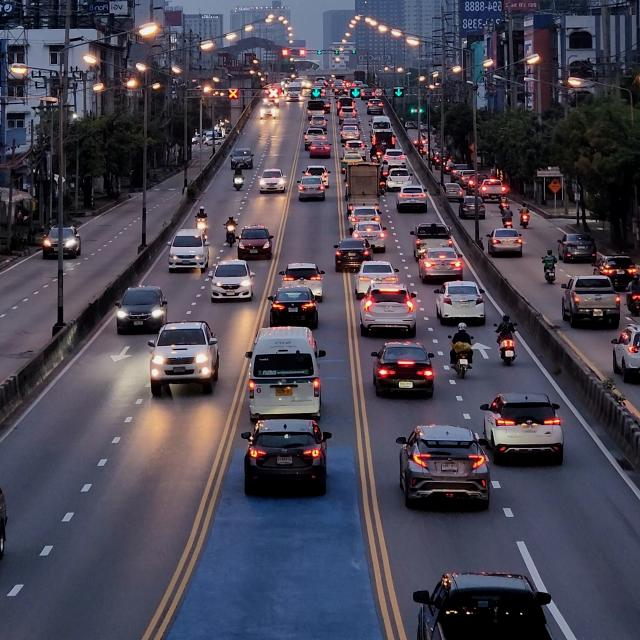Vehicle: (238, 324, 330, 426), (392, 421, 489, 504), (240, 419, 329, 496), (144, 318, 219, 398), (478, 392, 562, 462), (371, 340, 436, 400), (554, 275, 620, 332), (356, 283, 416, 338), (115, 287, 165, 339), (433, 280, 488, 325), (207, 260, 252, 306), (166, 227, 207, 276), (416, 248, 462, 286), (233, 224, 275, 262), (486, 228, 519, 256)
